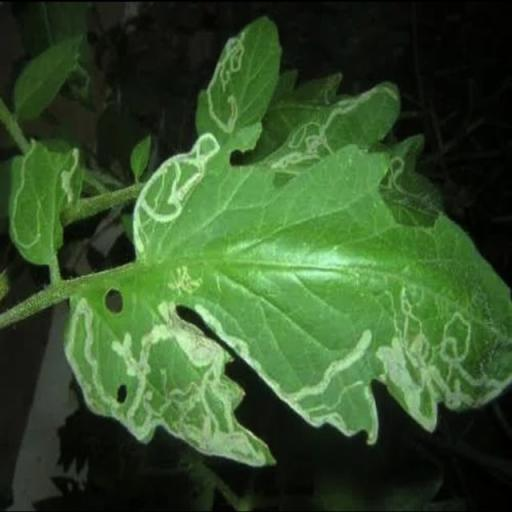disease_tomato: (64, 132, 512, 470), (192, 13, 281, 137)
